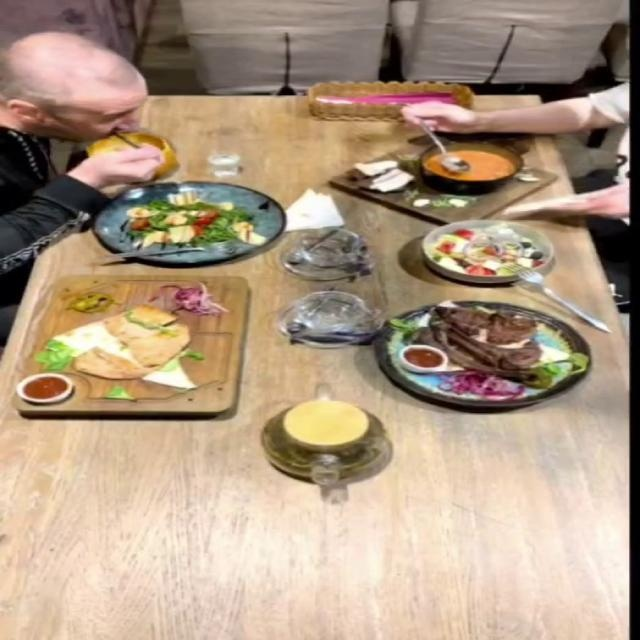meat: (10, 275, 259, 415), (369, 300, 592, 407)
salad: (89, 181, 283, 263), (421, 219, 556, 284)
soup: (329, 139, 559, 225), (86, 133, 178, 179)
tea: (253, 372, 410, 499)
